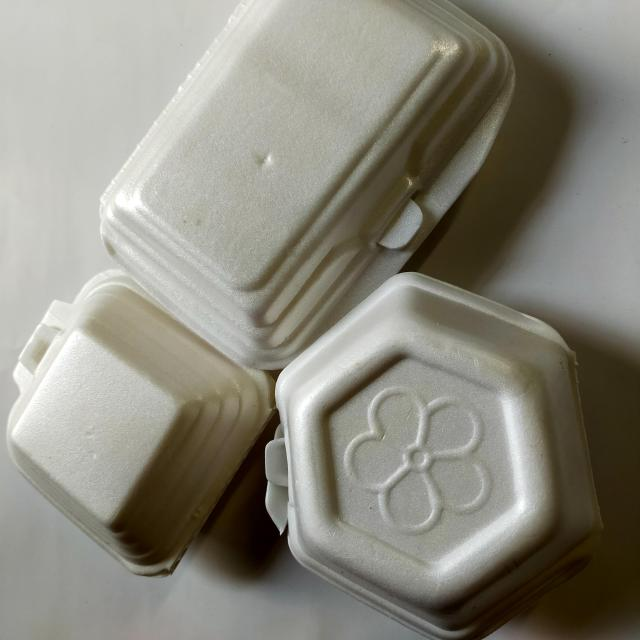styrofoam: (6, 0, 518, 577), (264, 270, 604, 638), (5, 267, 276, 578)
